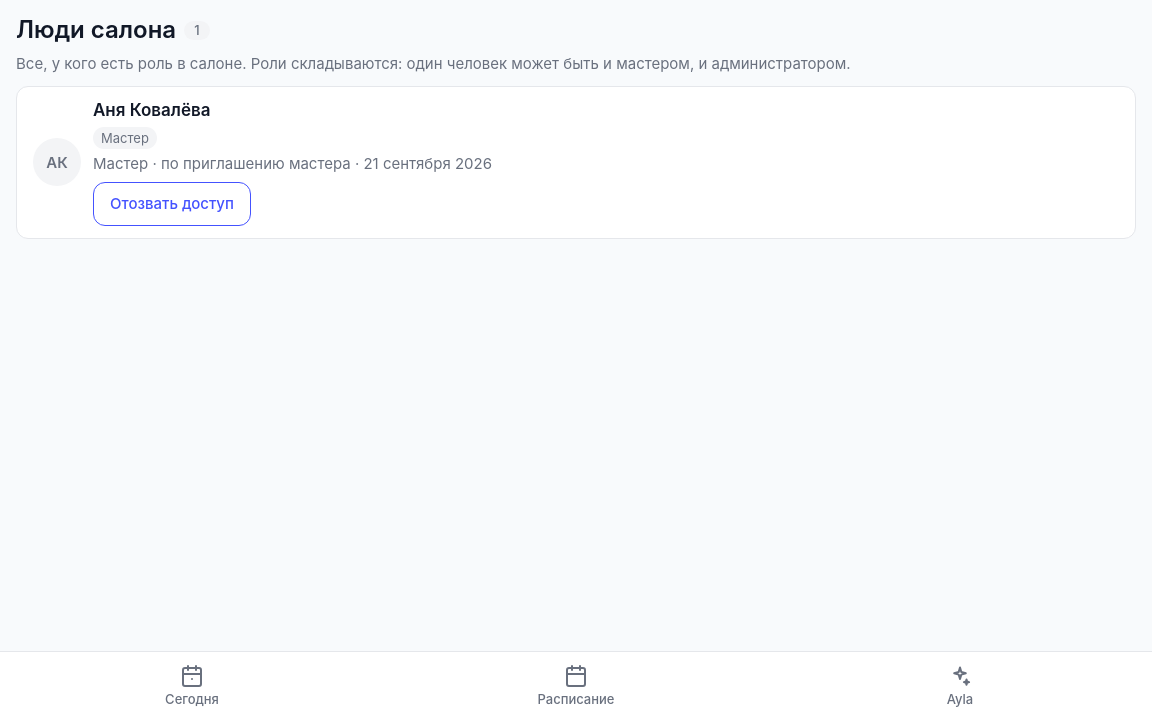
the confirmation names who and what › asks about this person by name, and lists the role going away
Click the button with aria-label "Отозвать доступ у Аня Ковалёва" at (172, 204), box [93,182,251,226]
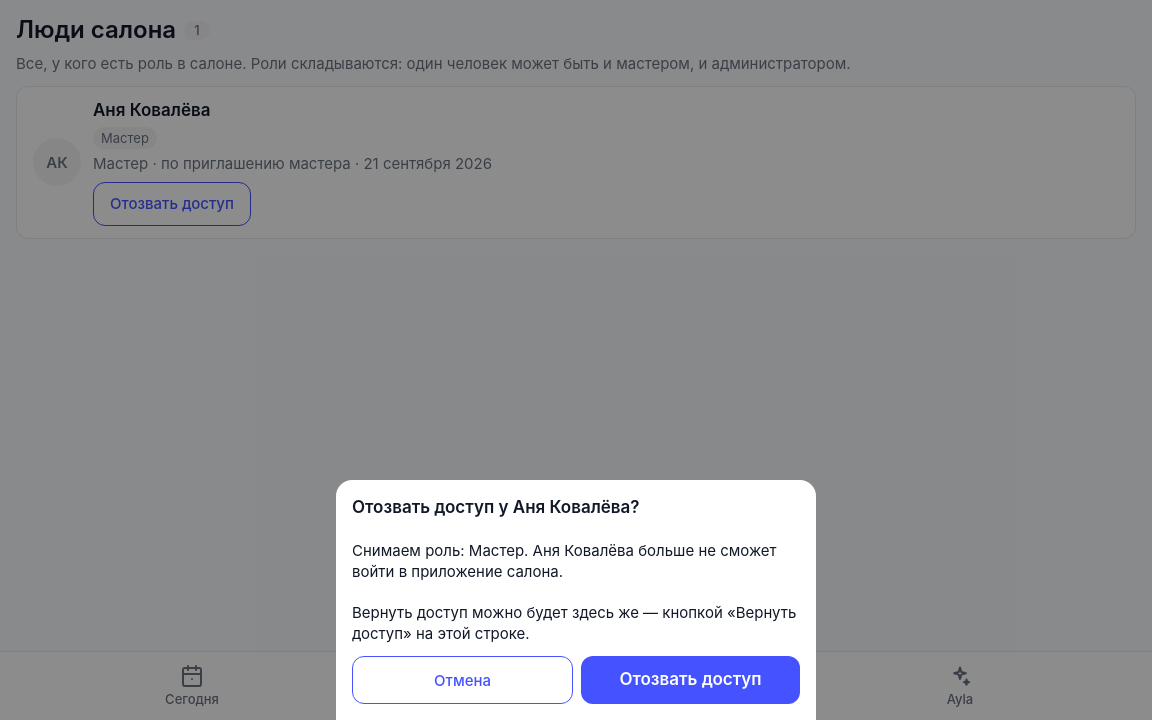
Now the dialog is shown
Now the text "Снимаем роль: Мастер." is shown, box [352,541,776,581]
Now the text "Вернуть доступ можно будет здесь же" is shown, box [352,603,796,643]
